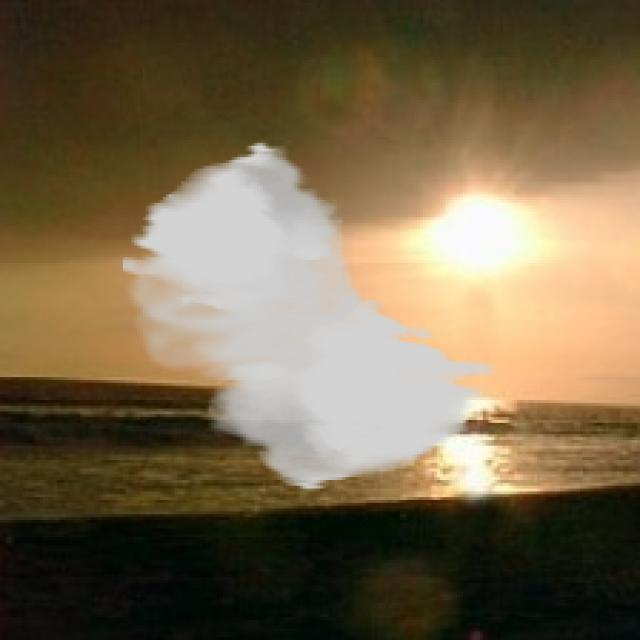Smoke: (120, 140, 494, 492)
